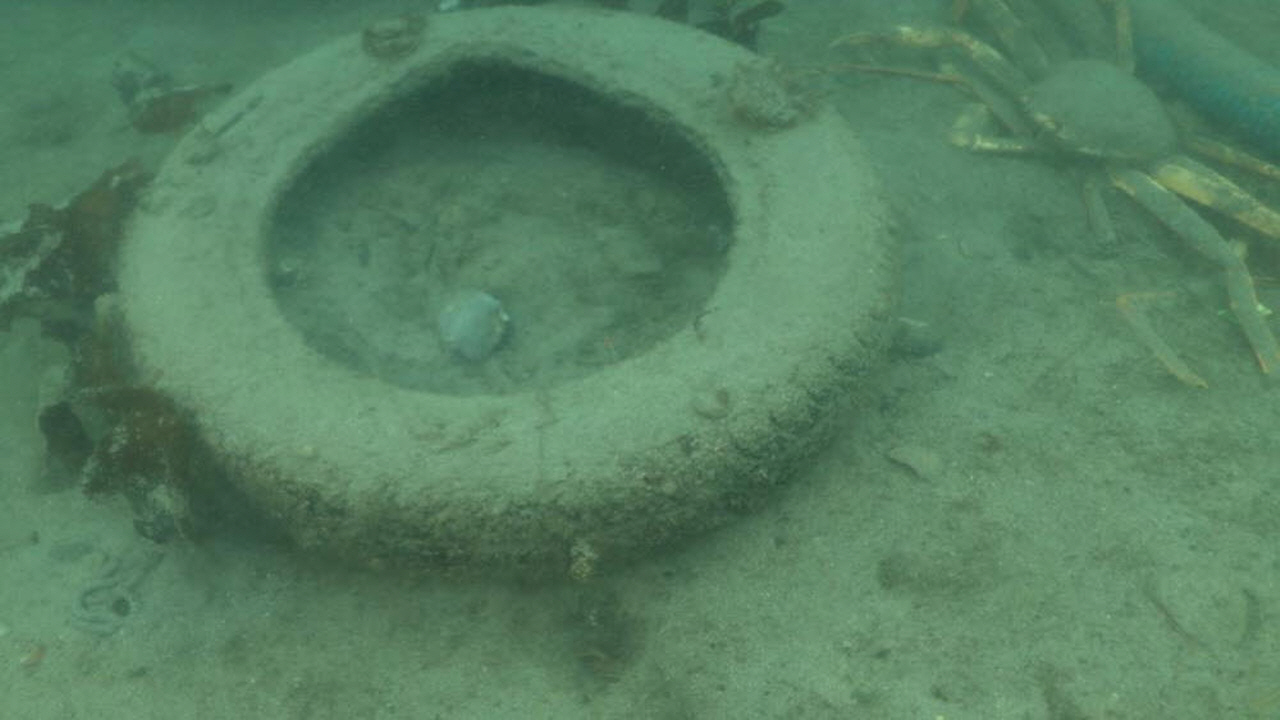tire: (111, 0, 897, 571)
